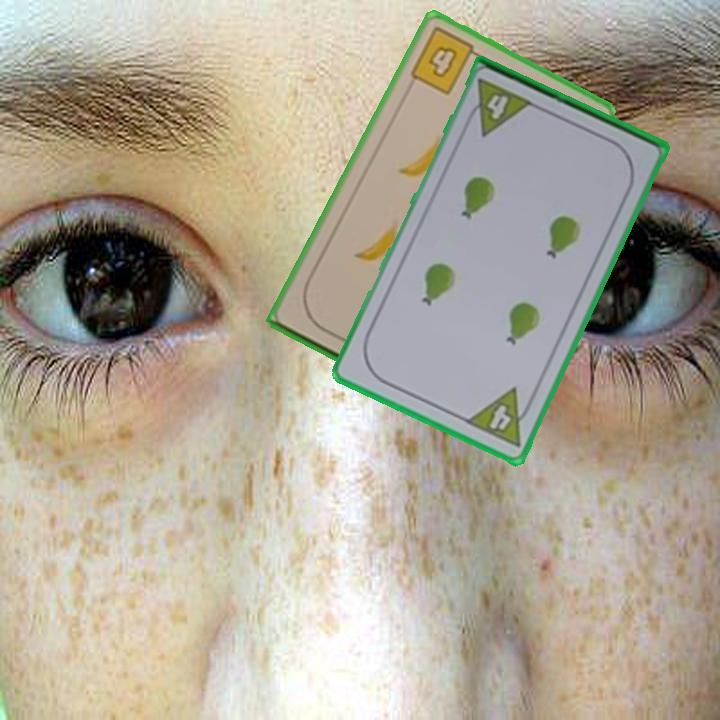4b: (406, 23, 486, 98)
4p: (461, 384, 538, 450), (461, 75, 536, 139)
